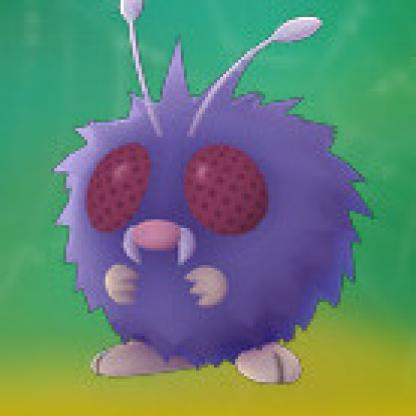Venonat: (51, 11, 386, 396)
